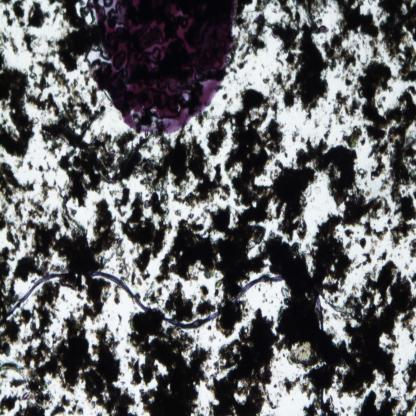Background material: (209, 84, 308, 296), (282, 262, 416, 415), (4, 268, 330, 330), (39, 89, 143, 202), (54, 312, 137, 415), (124, 312, 206, 414), (204, 312, 282, 416), (307, 188, 388, 277), (271, 0, 328, 117), (136, 133, 230, 202), (386, 85, 416, 244), (354, 59, 390, 178), (59, 199, 116, 273), (297, 135, 356, 206), (8, 222, 60, 301), (156, 209, 212, 282), (0, 56, 35, 166), (124, 193, 171, 269), (377, 2, 416, 83), (57, 0, 100, 72), (334, 1, 381, 57), (24, 328, 53, 415), (236, 0, 271, 70), (0, 162, 35, 220), (322, 32, 358, 88), (37, 45, 71, 92), (0, 307, 33, 353), (83, 275, 111, 323), (166, 281, 195, 324), (208, 109, 235, 153), (357, 388, 400, 415), (399, 355, 416, 414), (0, 215, 27, 252), (220, 299, 248, 334), (334, 90, 362, 121), (26, 92, 61, 116), (33, 300, 59, 332), (27, 195, 57, 222), (39, 162, 57, 202), (196, 283, 218, 314), (25, 1, 50, 28), (277, 368, 301, 396), (112, 185, 131, 219), (115, 236, 129, 281), (19, 27, 40, 56), (341, 124, 366, 148), (365, 219, 389, 242), (63, 274, 86, 298), (0, 247, 11, 295), (0, 357, 25, 377), (49, 394, 71, 416), (0, 32, 19, 57), (343, 229, 366, 249), (0, 392, 20, 414), (144, 282, 162, 306), (0, 0, 14, 27), (87, 84, 99, 112), (13, 1, 25, 28), (130, 271, 153, 285), (356, 252, 372, 271), (323, 115, 334, 142), (290, 121, 303, 143), (8, 376, 26, 391), (80, 69, 92, 88), (205, 329, 217, 345), (407, 238, 416, 259), (376, 247, 388, 262), (28, 64, 38, 81), (113, 284, 121, 305), (116, 312, 124, 326), (70, 80, 80, 90), (221, 91, 229, 102), (226, 98, 234, 107)
Pen: (92, 0, 237, 135)
